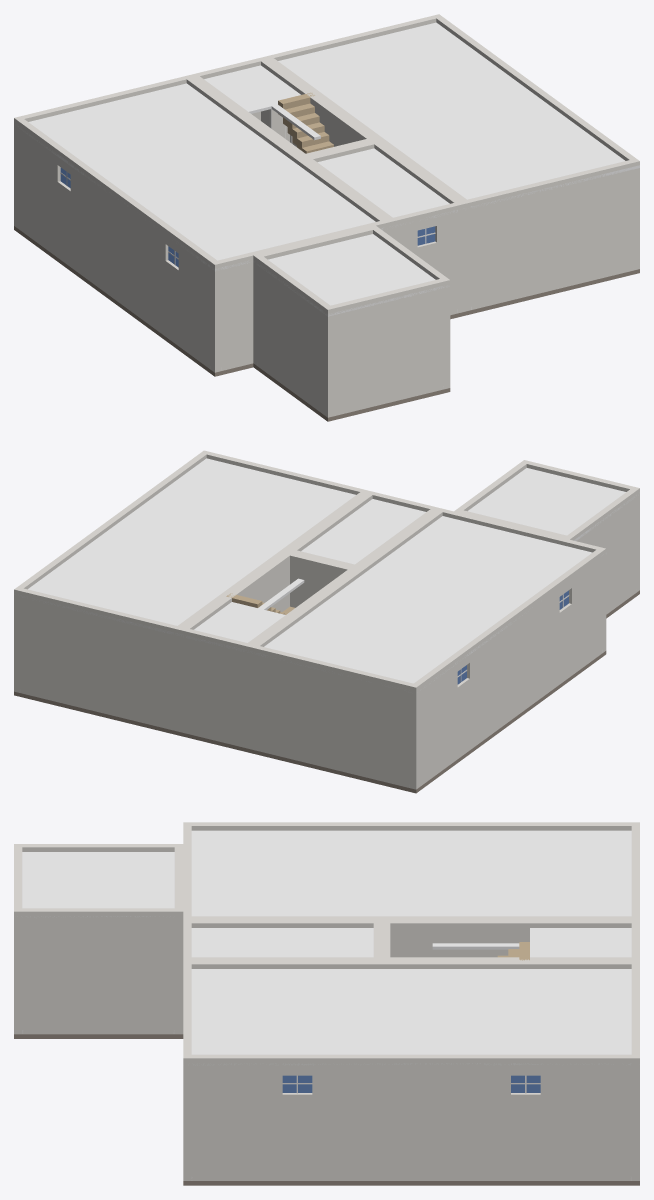
File: interior-basement.glb
3 renders of one model, top to bottom at view 1: azimuth 30°, elevation 25°; view 2: azimuth 150°, elevation 25°; view 3: azimuth 270°, elevation 25°, orthographic. The views are drawn at different scales.
Visible parts, largest first — view 1: interior-basement; view 2: interior-basement; view 3: interior-basement.
Boxes of the visible parts, left/top/right/bottom form: interior-basement: left=14, top=14, right=639, bottom=421; interior-basement: left=14, top=450, right=639, bottom=793; interior-basement: left=14, top=822, right=639, bottom=1185.
Size of the model in its own units: 13.2 by 3.42 by 14.8.
